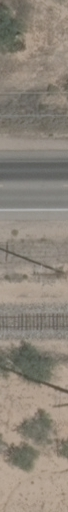DT: (1, 244, 67, 277), (2, 361, 68, 390)
